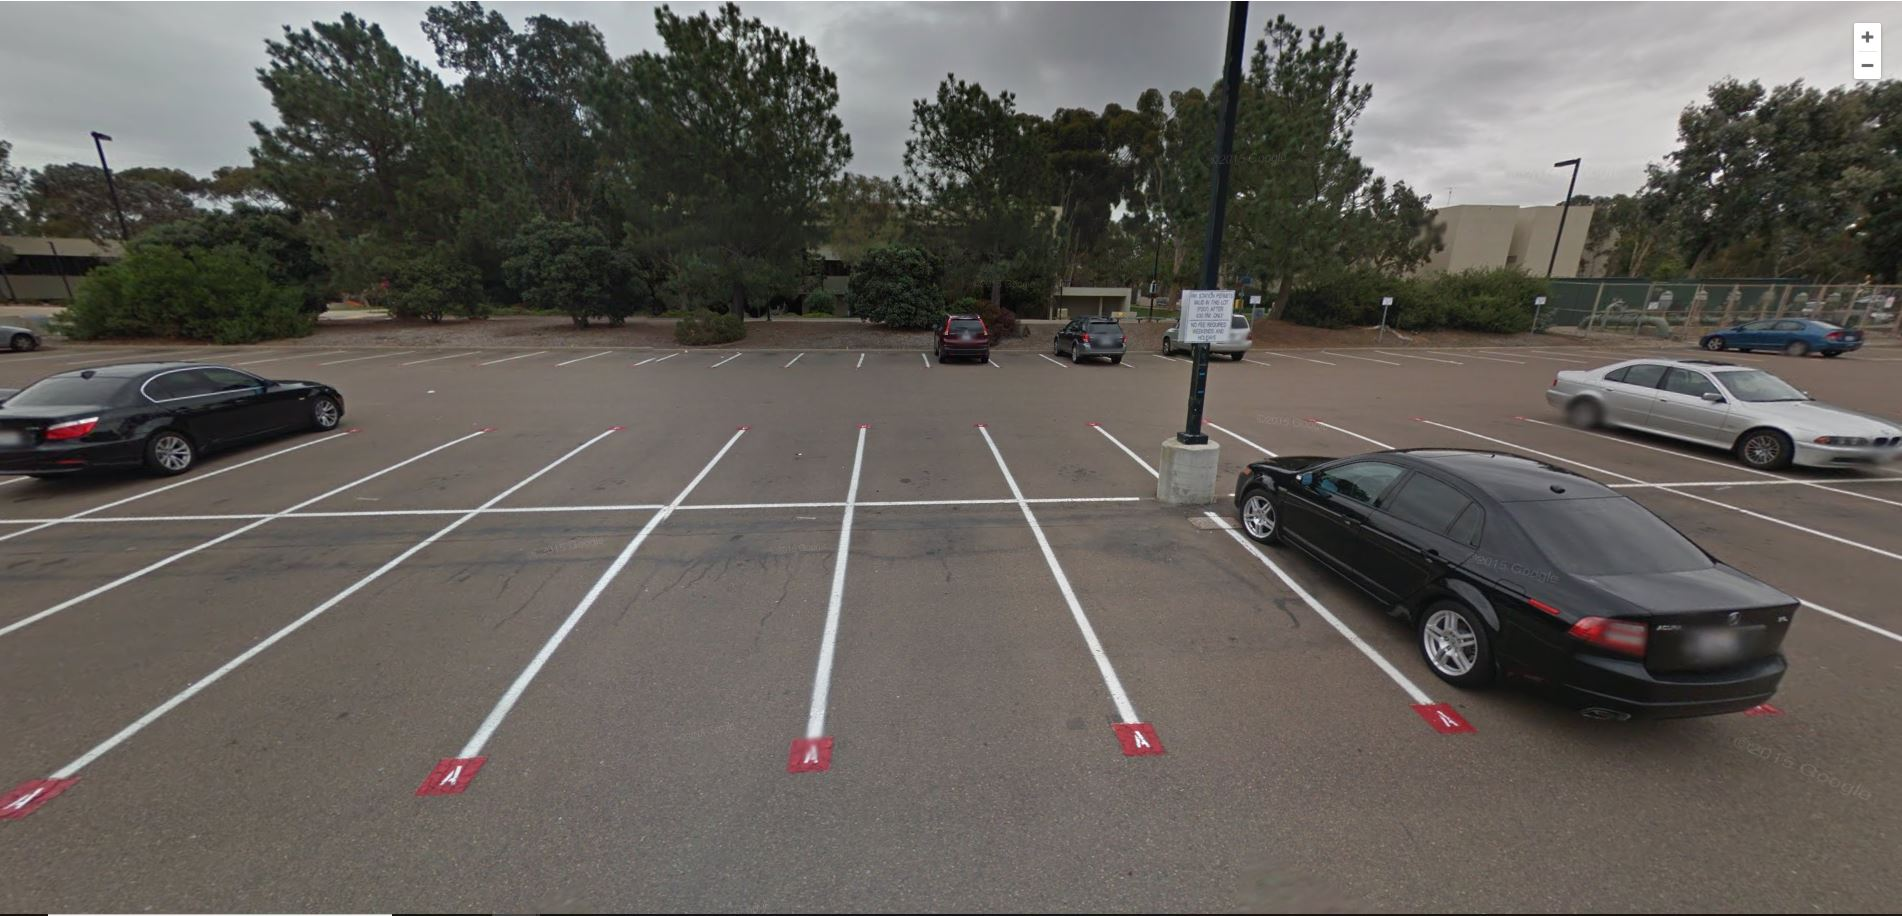car: (1228, 429, 1817, 739), (1, 354, 357, 508), (1541, 348, 1902, 493), (1697, 312, 1877, 364), (1161, 307, 1257, 372), (1043, 312, 1137, 370), (933, 303, 1002, 377)
